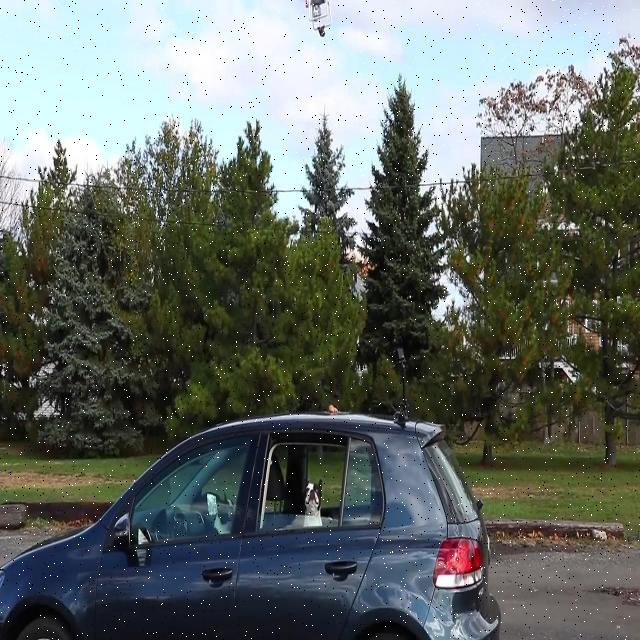UAV: (304, 0, 332, 38)
